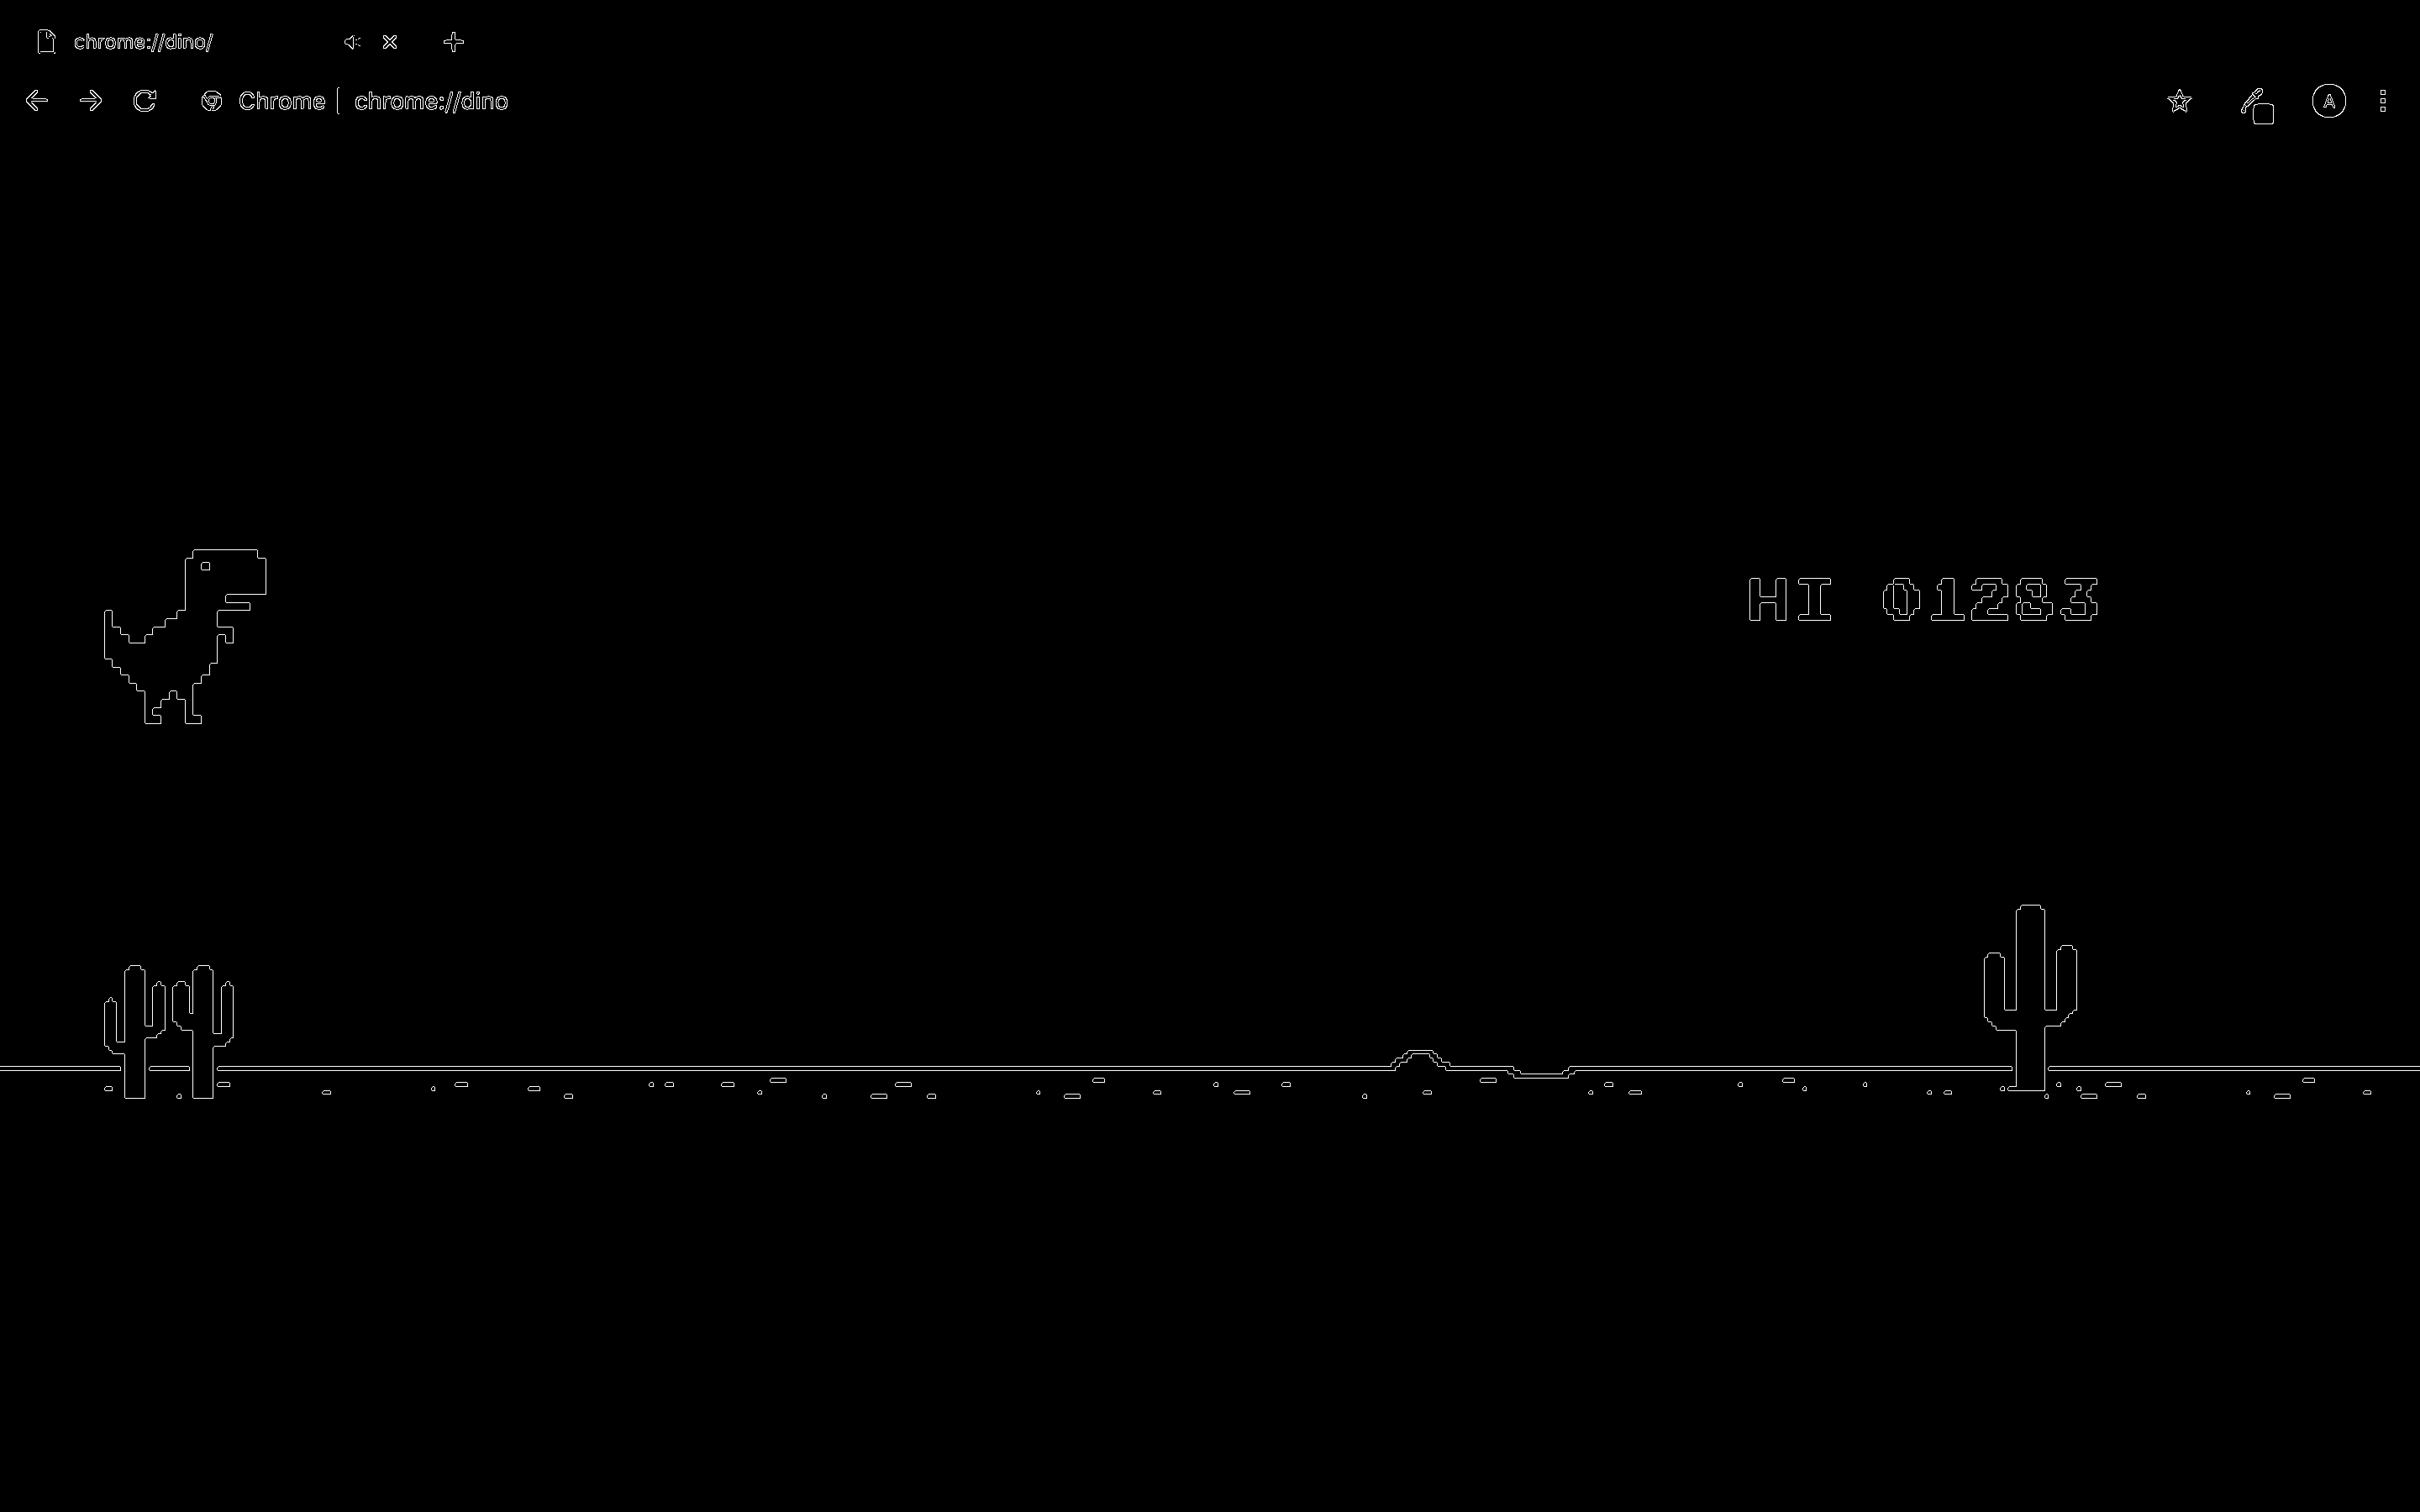Cactus: (1969, 909, 2094, 1096), (96, 963, 169, 1101), (172, 965, 240, 1103)
Dino: (92, 543, 281, 732)
